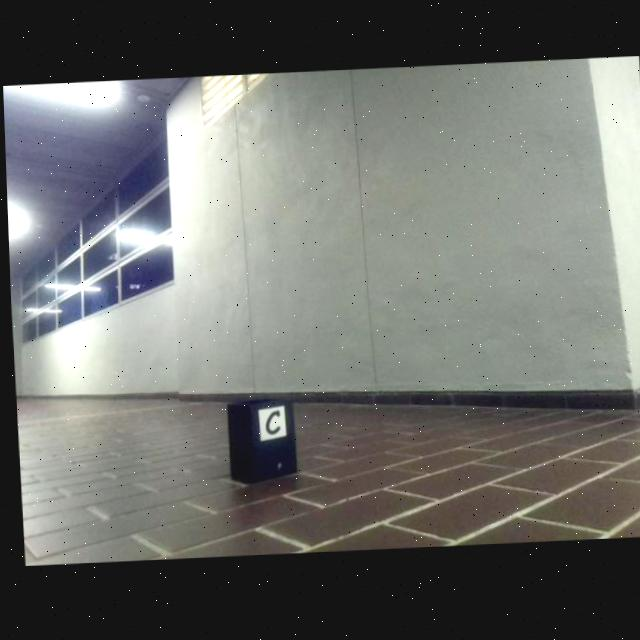C: (261, 412, 278, 436)
